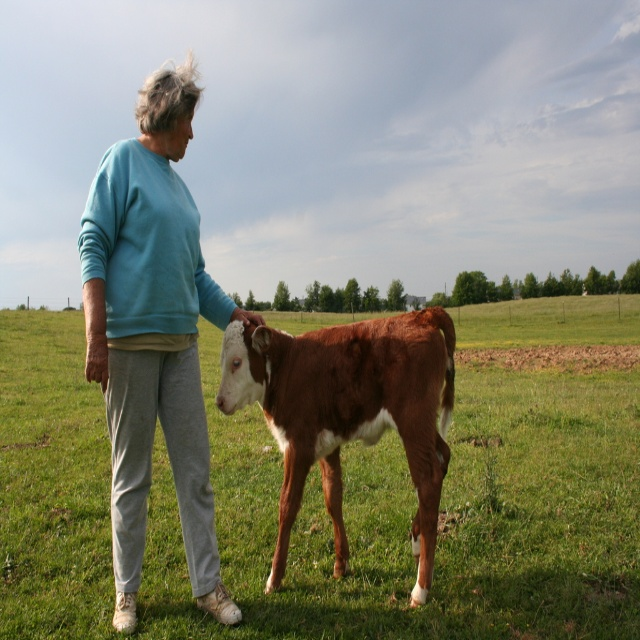Cattle: (218, 313, 458, 612)
